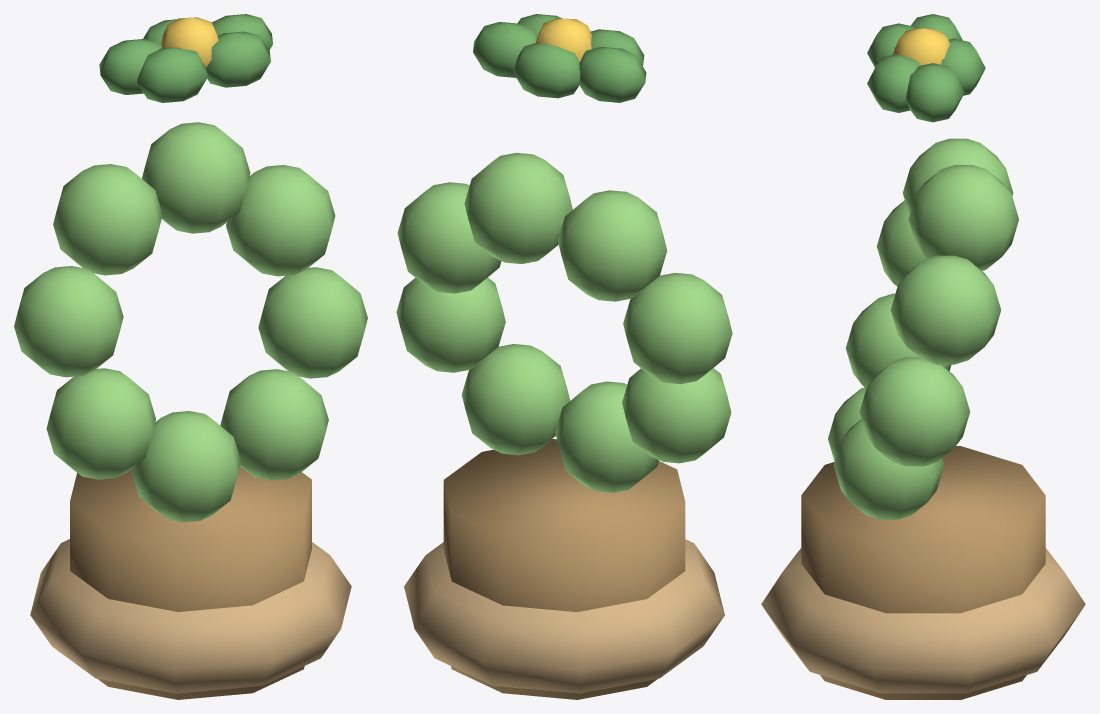
File: hollow_vine.fbx
3 views of the same model, side by side, from view 1: azimuth 30°, elevation 25°; view 2: azimuth 150°, elevation 25°; view 3: azimuth 270°, elevation 25° (orthographic).
Visible parts, largest first — view 1: PLQ_hollow_vine_mature; view 2: PLQ_hollow_vine_mature; view 3: PLQ_hollow_vine_mature.
Boxes of the visible parts, x1=… form: PLQ_hollow_vine_mature: x1=14, y1=14, x2=367, y2=699; PLQ_hollow_vine_mature: x1=396, y1=14, x2=732, y2=699; PLQ_hollow_vine_mature: x1=761, y1=14, x2=1085, y2=699.
Bounding box in the file's own units: 90.91 × 172 × 78.9.
